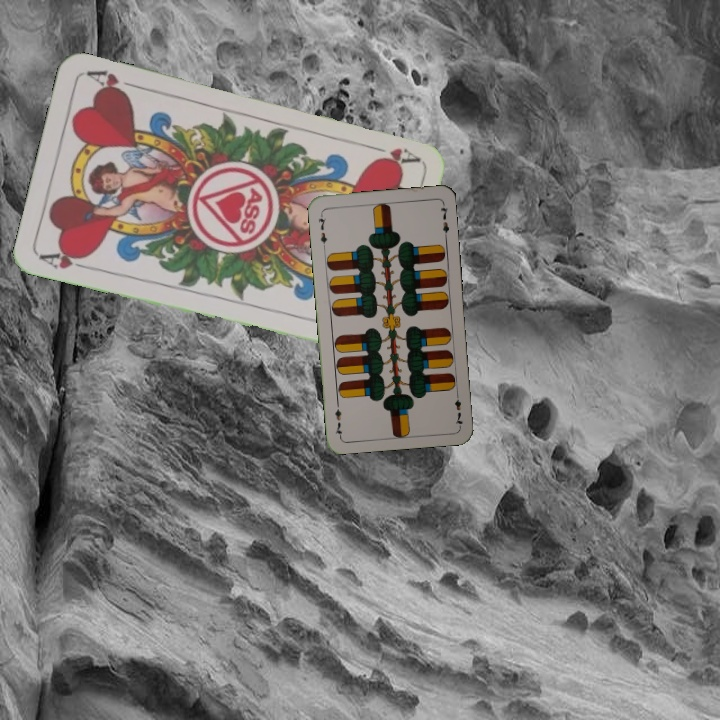E7: (314, 210, 330, 250), (451, 388, 466, 428)
HA: (36, 245, 95, 273), (362, 140, 421, 166)
